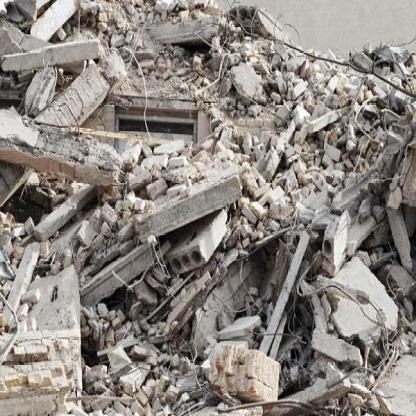brick: (84, 111, 414, 413), (136, 36, 377, 309), (2, 110, 211, 412), (0, 2, 221, 132), (282, 286, 415, 413), (352, 42, 415, 91), (359, 87, 406, 140), (377, 64, 409, 91)
